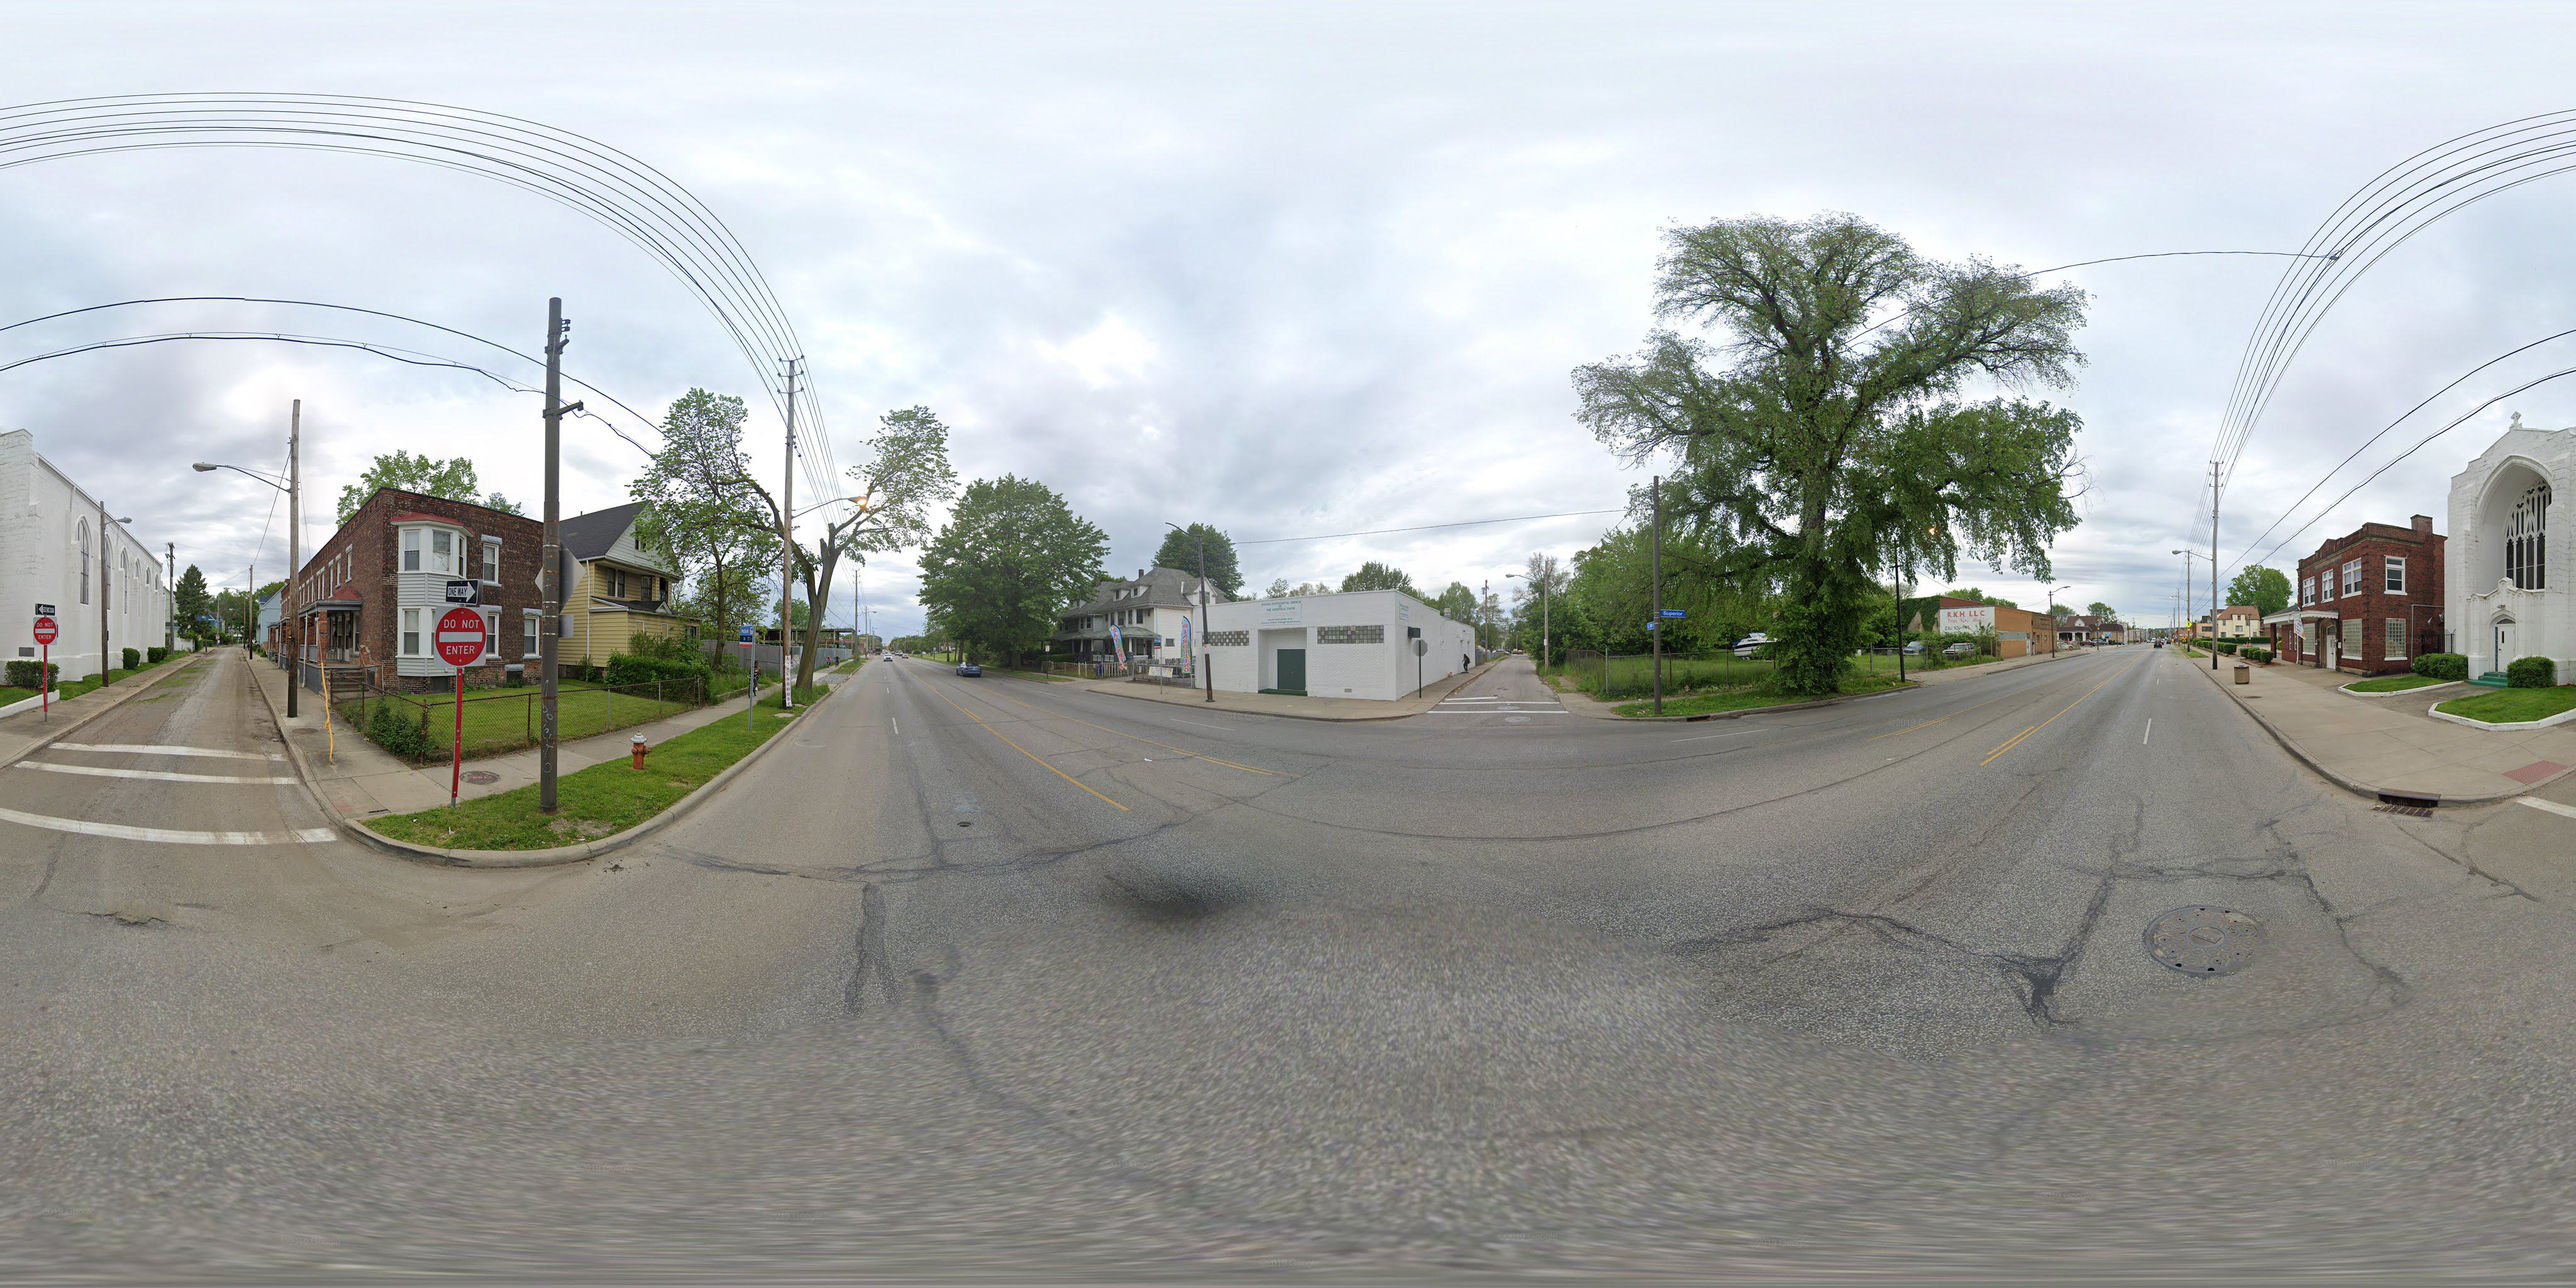Curb Ramp: (2492, 743, 2568, 808), (1554, 697, 1613, 724), (1408, 690, 1439, 724)
Irregular Ramp: (286, 761, 394, 835)
